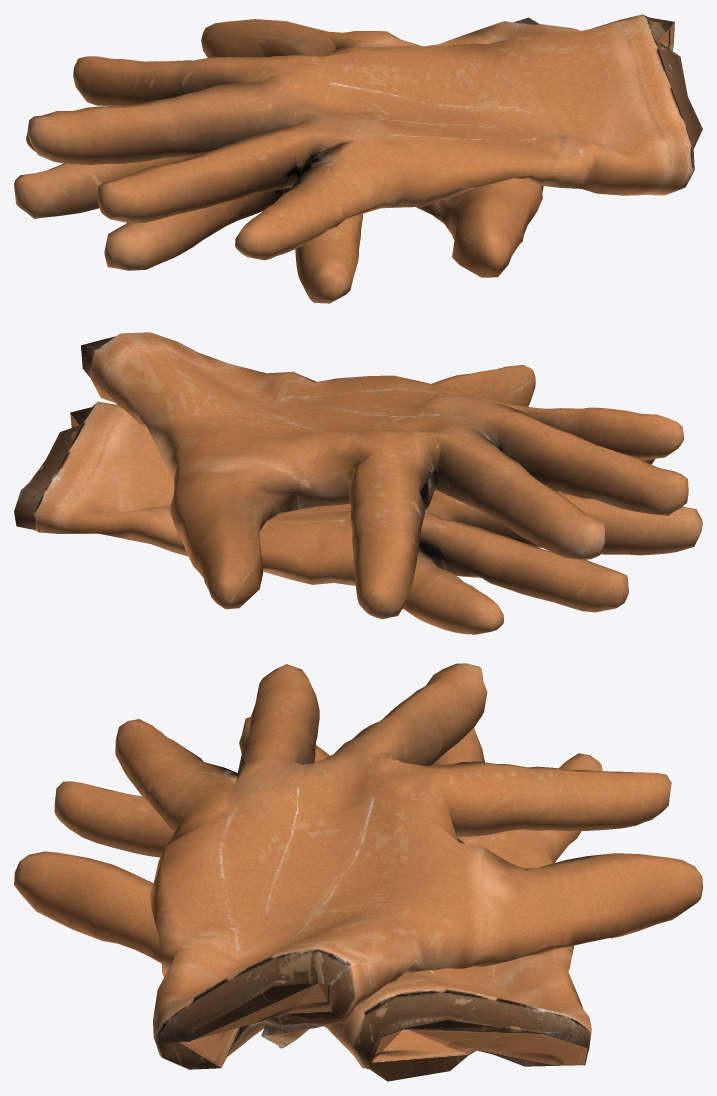
File: guantes.fbx
3 renders of one model, top to bottom at view 1: azimuth 30°, elevation 25°; view 2: azimuth 150°, elevation 25°; view 3: azimuth 270°, elevation 25°, orthographic. The views are drawn at different scales.
Parts seen in each view (by area): view 1: Object001; view 2: Object001; view 3: Object001.
Part boxes in pixels (box(x1,y1,x2,y2)): Object001: box(14, 14, 702, 303); Object001: box(14, 332, 702, 634); Object001: box(14, 663, 702, 1081).
Size of the model in its own units: 26.07 by 5.25 by 22.57.
1 material, 1 textured.
